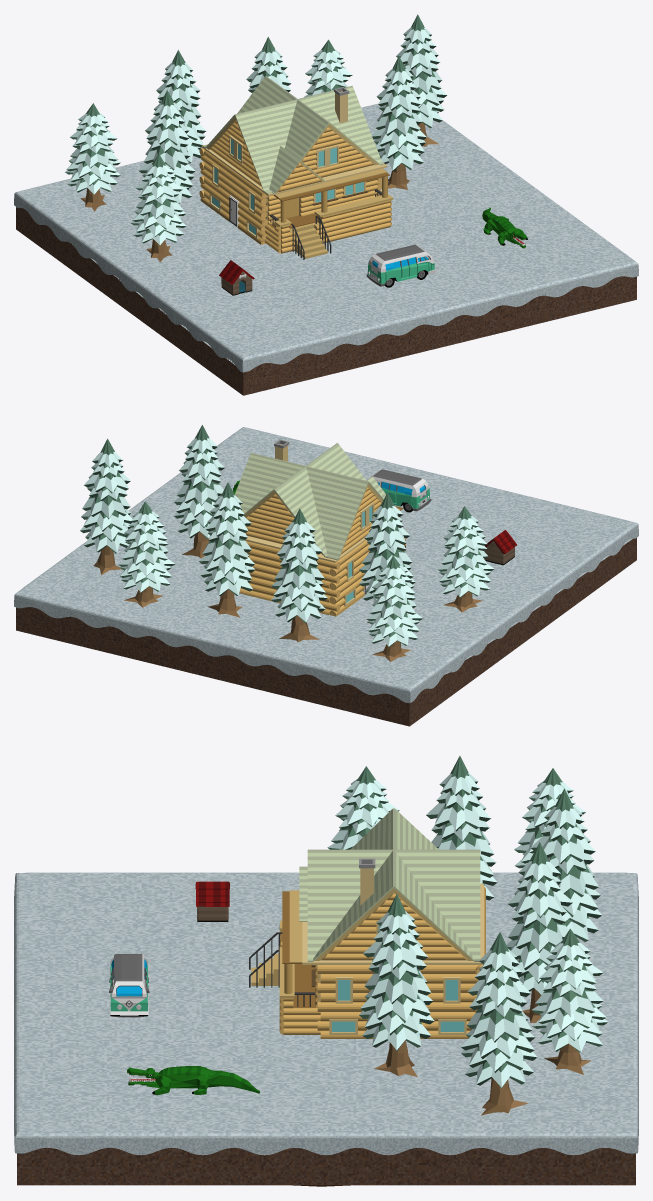
3 renders of one model, top to bottom at view 1: azimuth 30°, elevation 25°; view 2: azimuth 150°, elevation 25°; view 3: azimuth 270°, elevation 25°, orthographic. The views are drawn at different scales.
Parts seen in each view (by area): view 1: Cube.003, Cube.1516, VEHICLES_VAN, ANIMAL_COCODRILO, OBJRANDOM_DOGHOUSE; view 2: Cube.003, Cube.1516, VEHICLES_VAN, OBJRANDOM_DOGHOUSE; view 3: Cube.003, Cube.1516, ANIMAL_COCODRILO, VEHICLES_VAN, OBJRANDOM_DOGHOUSE.
Boxes of the visible parts, <box> form: Cube.003: <box>14,14,638,395</box>; Cube.1516: <box>199,76,393,259</box>; VEHICLES_VAN: <box>366,244,436,287</box>; ANIMAL_COCODRILO: <box>482,207,527,248</box>; OBJRANDOM_DOGHOUSE: <box>219,260,254,295</box>; Cube.003: <box>14,425,638,726</box>; Cube.1516: <box>234,439,406,616</box>; VEHICLES_VAN: <box>367,469,431,512</box>; OBJRANDOM_DOGHOUSE: <box>484,530,516,565</box>; Cube.003: <box>14,756,638,1185</box>; Cube.1516: <box>249,808,485,1038</box>; ANIMAL_COCODRILO: <box>127,1066,259,1095</box>; VEHICLES_VAN: <box>109,954,149,1017</box>; OBJRANDOM_DOGHOUSE: <box>195,881,229,921</box>.
Size of the model in its own units: 4040 by 1758 by 4040.
Materials: 43 (4 with a texture image).
